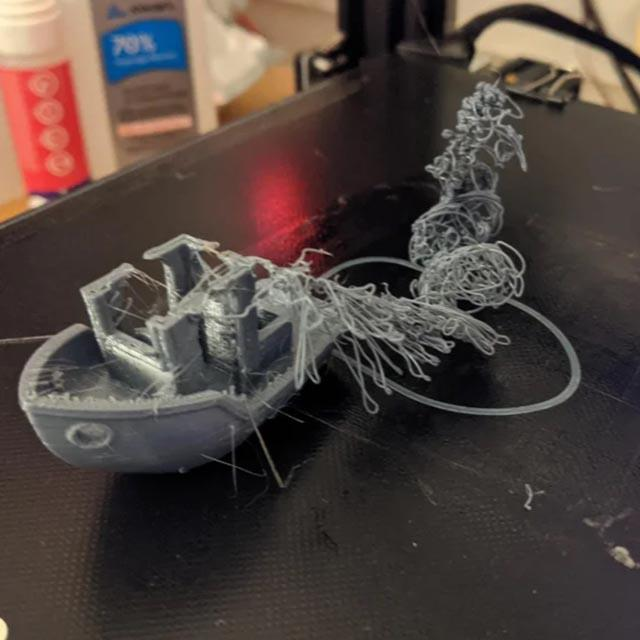Spaghetti: (401, 66, 535, 389), (190, 236, 404, 415)
